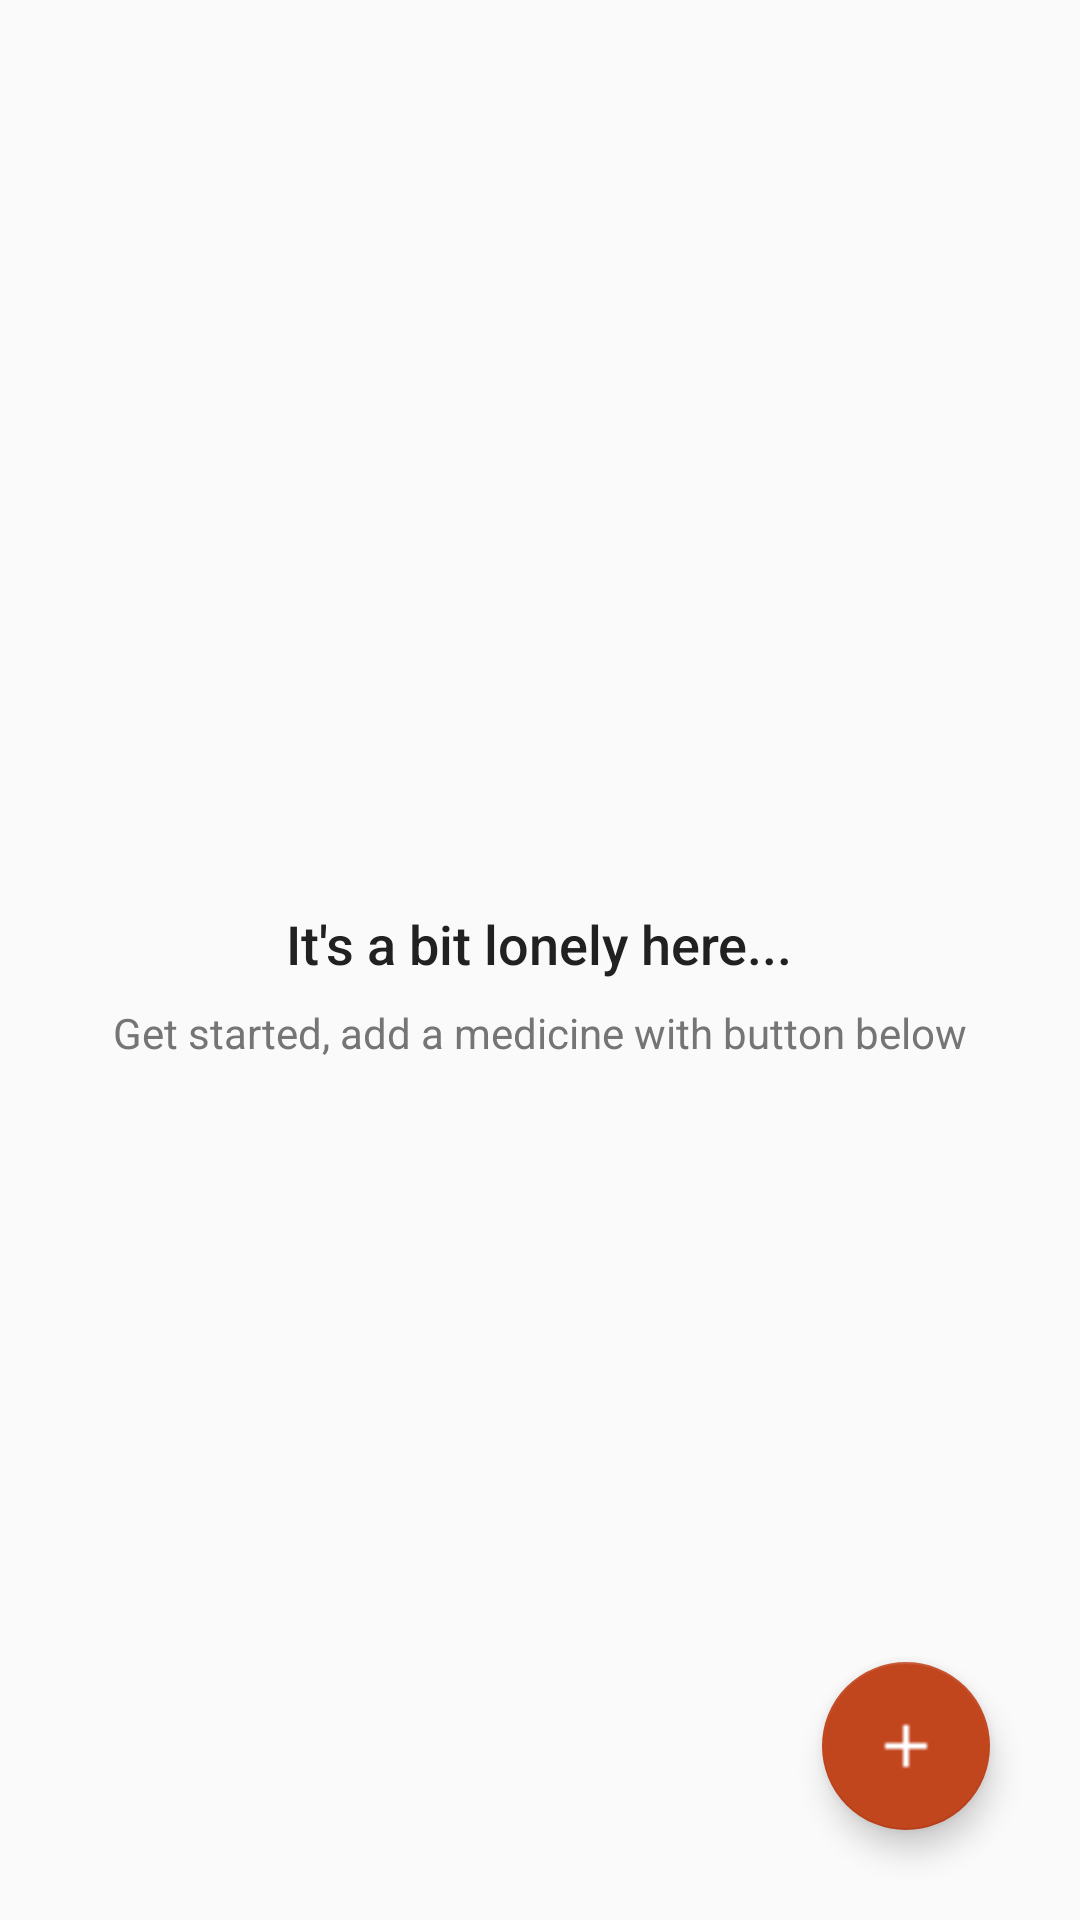

Screen size 1080w x 1920h. Icon name, then its center in pixels as point (x, y):
add med: point (906, 1746)
